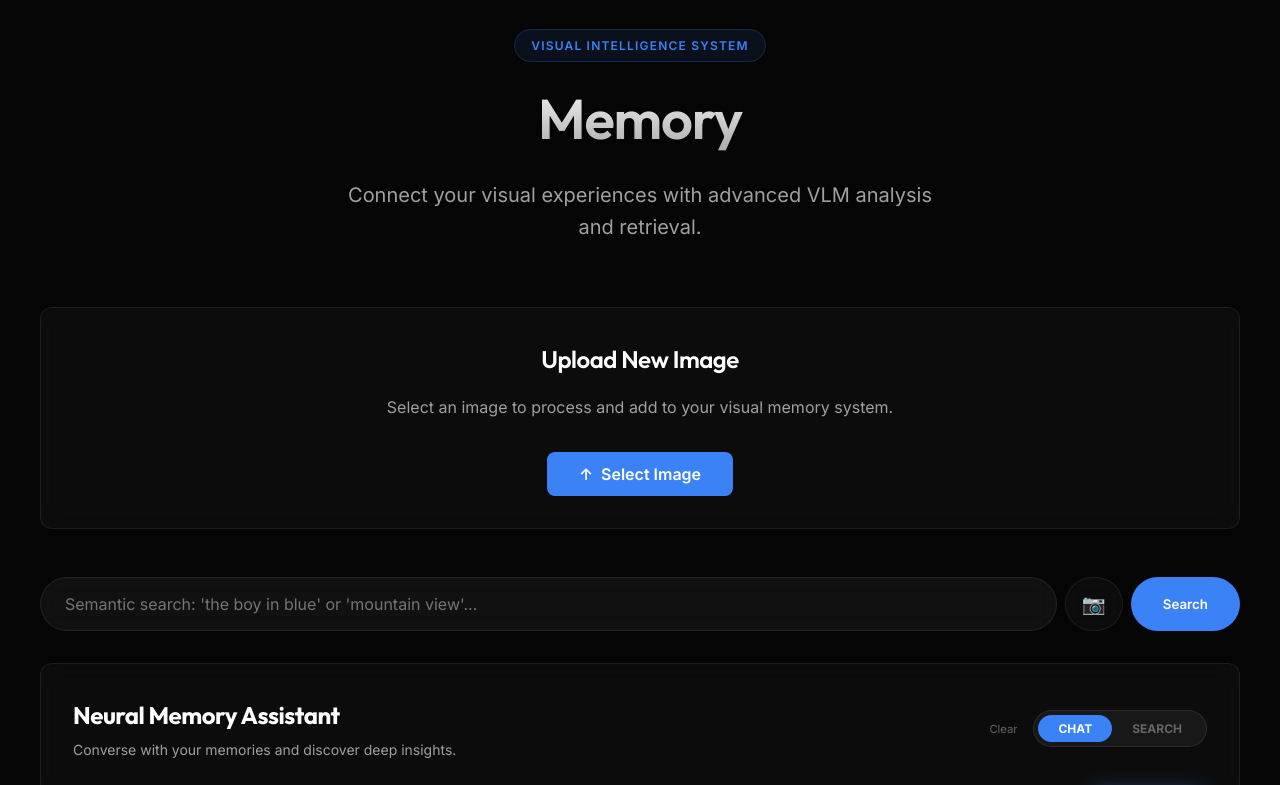
it: Image Memory App E2E Tests › should allow switching between Chat and Search modes
The width and height of the screenshot is (1280, 785).
Click the button "SEARCH" at (1157, 729), box [1112,715,1202,743]
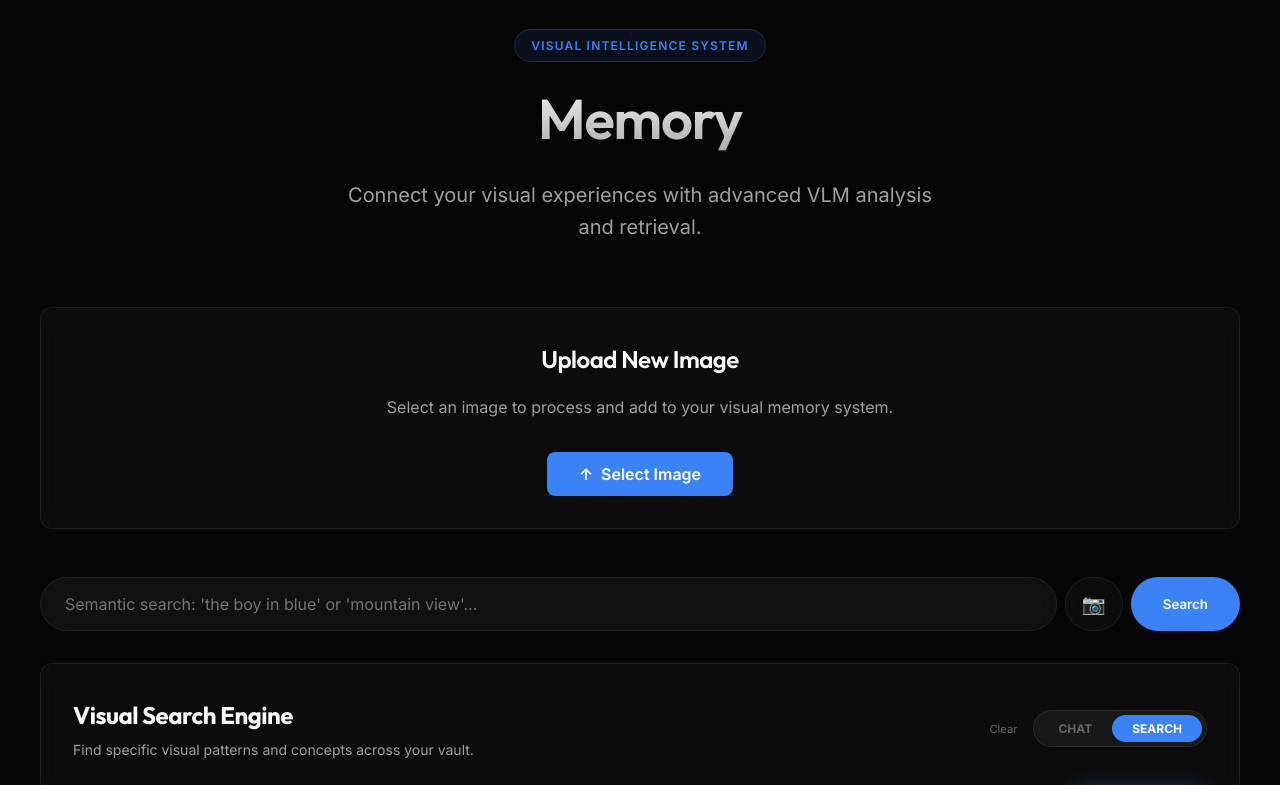
Check: the heading "Visual Search Engine" is shown, box [73,700,293,730]
Click the button "CHAT" at (1075, 729), box [1038,715,1112,743]
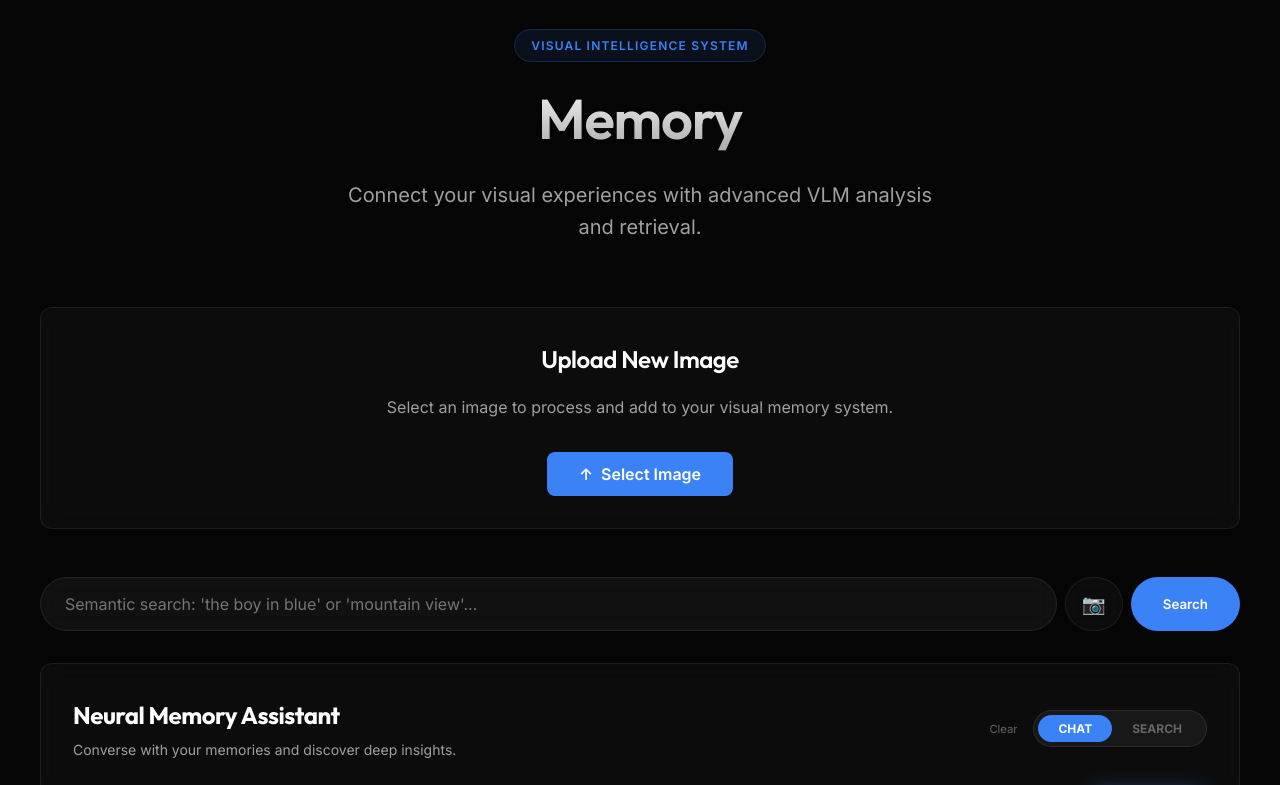
Check: the heading "Neural Memory Assistant" is shown, box [73,700,340,730]
